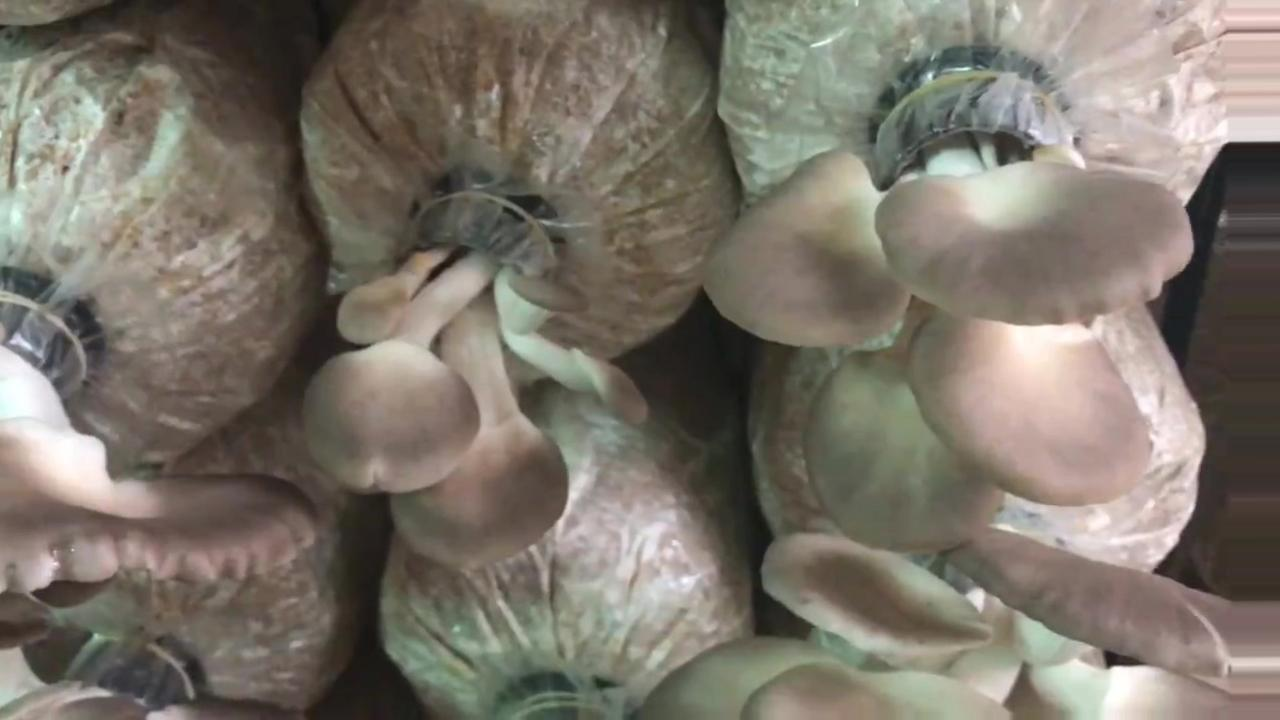nam: (703, 43, 1192, 559), (303, 173, 653, 571), (660, 539, 1280, 716), (1, 280, 314, 586)
